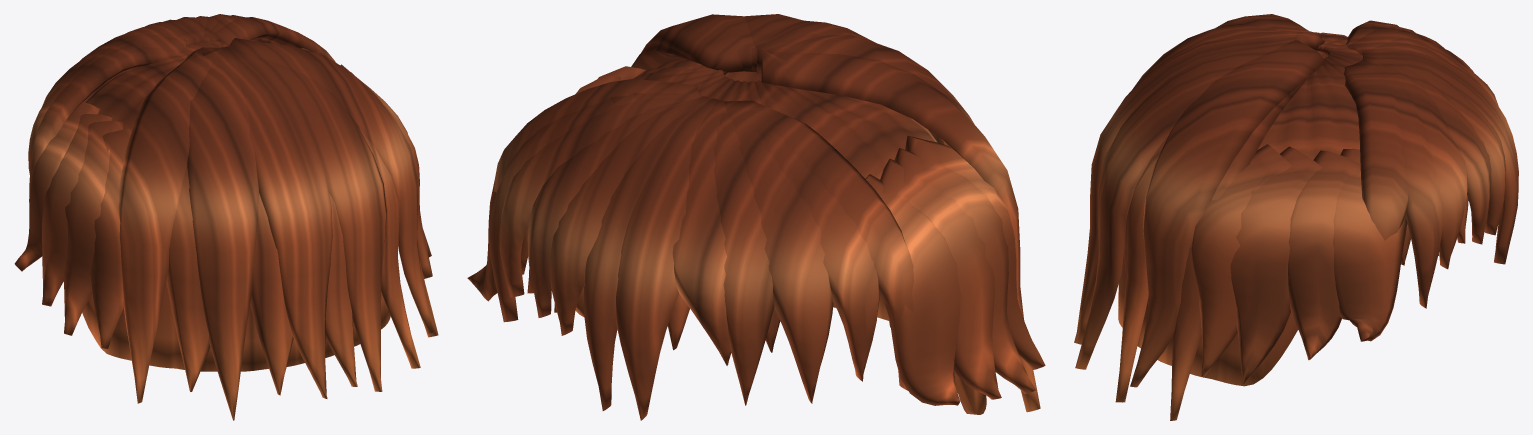
Rendered from caspian_hair.fbx.
3 renders of one model, left to right at view 1: azimuth 30°, elevation 25°; view 2: azimuth 150°, elevation 25°; view 3: azimuth 270°, elevation 25°, orthographic. The views are drawn at different scales.
Visible parts, largest first — view 1: CaspianHair; view 2: CaspianHair; view 3: CaspianHair.
Part boxes in pixels (<box>): CaspianHair: <box>14,14,438,420</box>; CaspianHair: <box>467,14,1045,420</box>; CaspianHair: <box>1074,14,1518,420</box>.
Bounding box in the file's own units: 192 × 142 × 185.
1 material, 1 textured.
